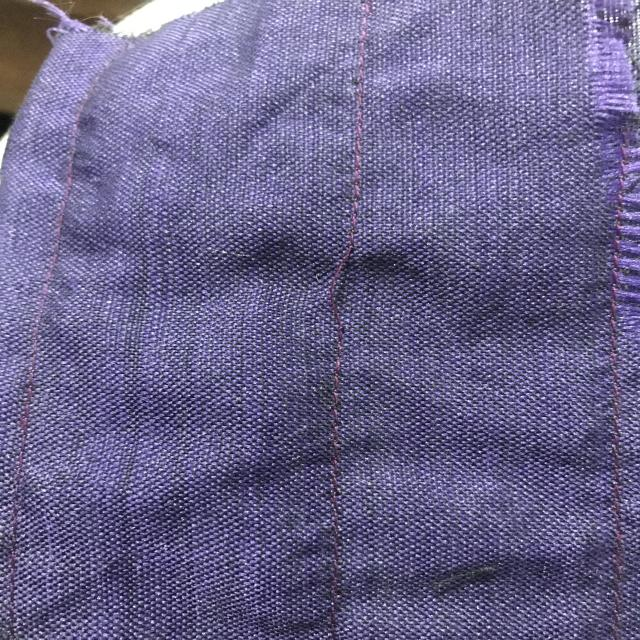good: (324, 382, 366, 508)
skip: (318, 218, 386, 339)
